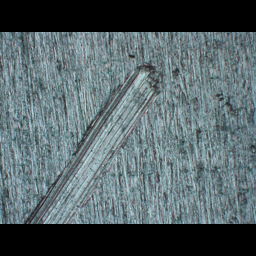d: (20, 60, 163, 223)
